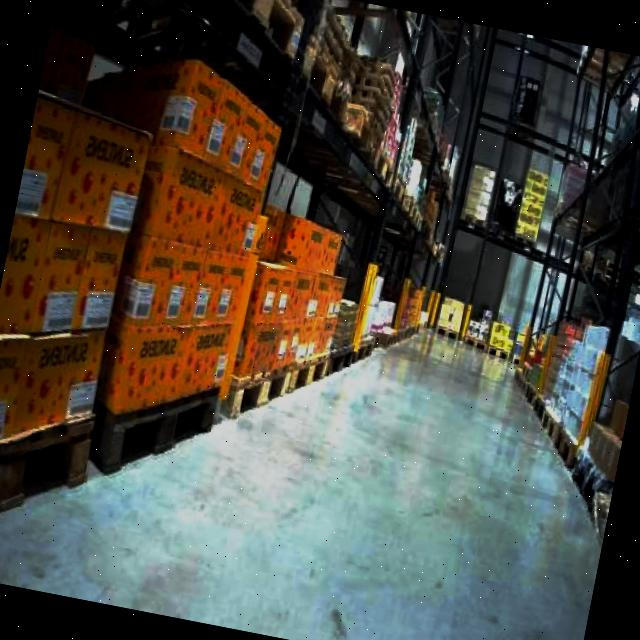ground: (0, 243, 637, 640)
pallet: (0, 16, 459, 635), (14, 38, 297, 496), (0, 80, 162, 536), (465, 307, 640, 640), (499, 307, 640, 487), (580, 393, 631, 488)
